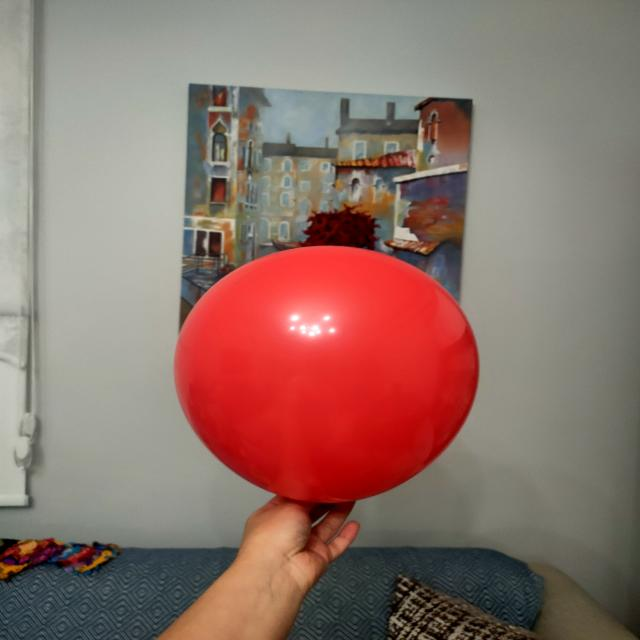red: (180, 245, 480, 508)
